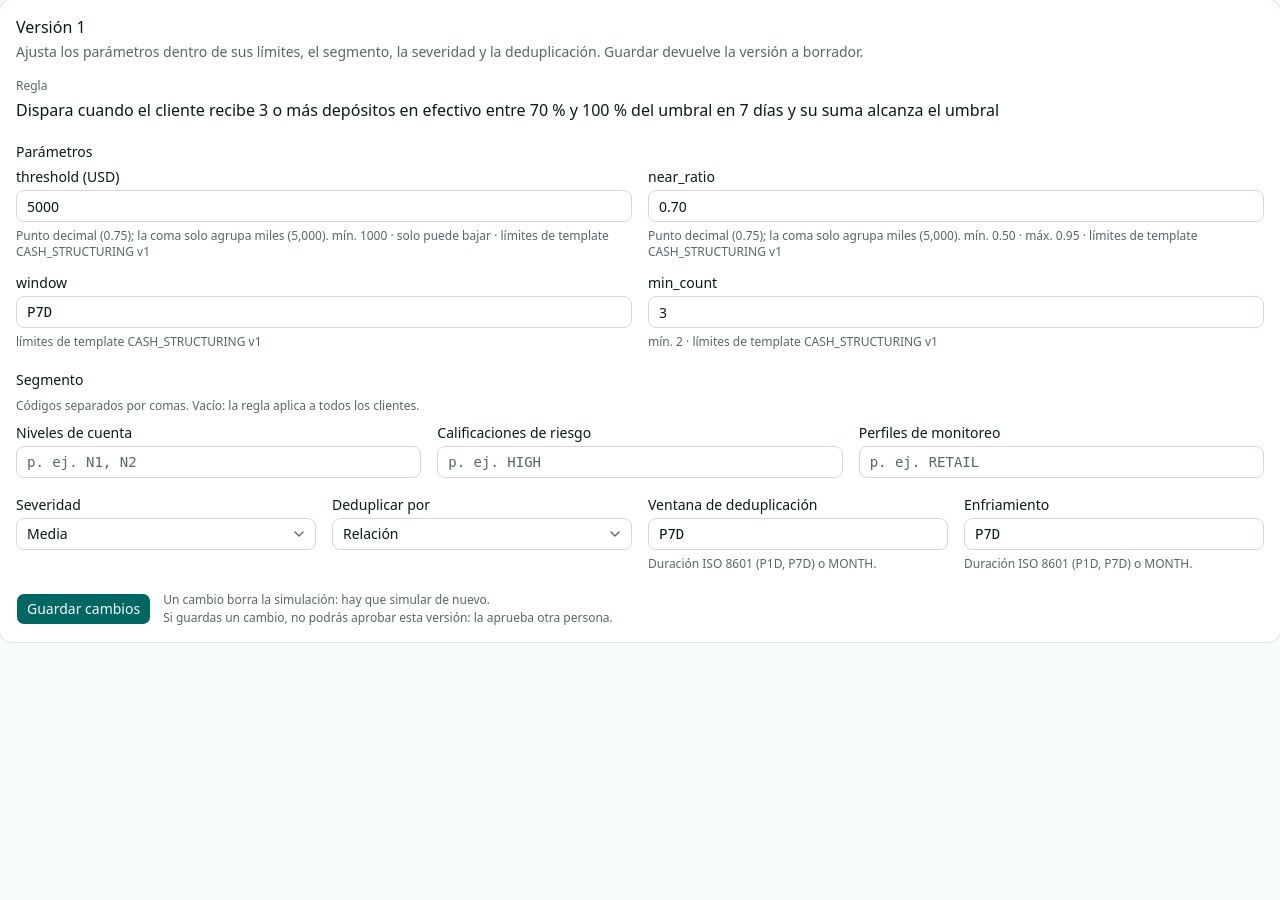
VersionEditor › refuses a decimal comma before anything is sent
Replace the text in the field labelled "near_ratio" with "0,80" at (956, 206), box [648,190,1264,222]
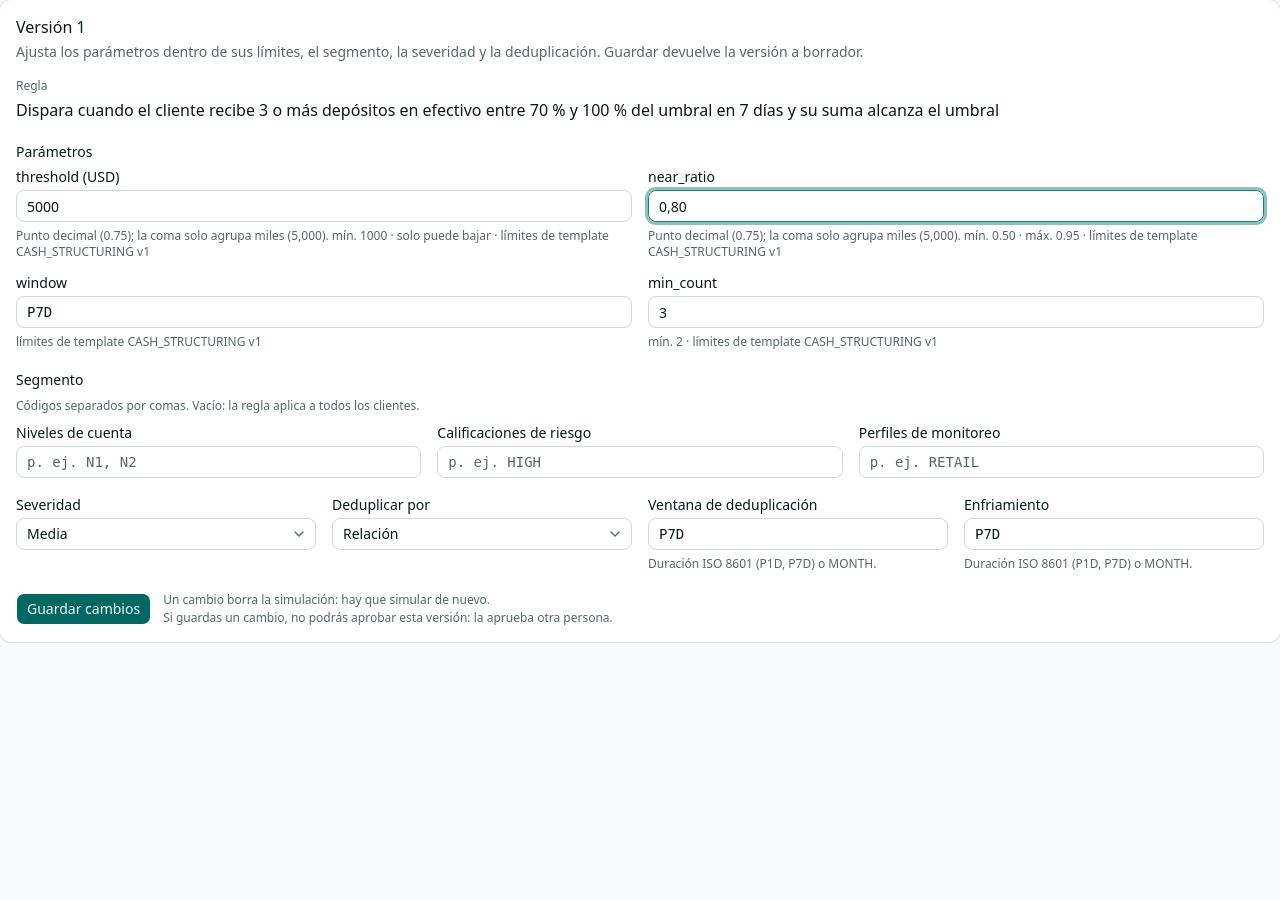
Click the button "Guardar cambios".
click(84, 609)  # box [16,593,151,625]
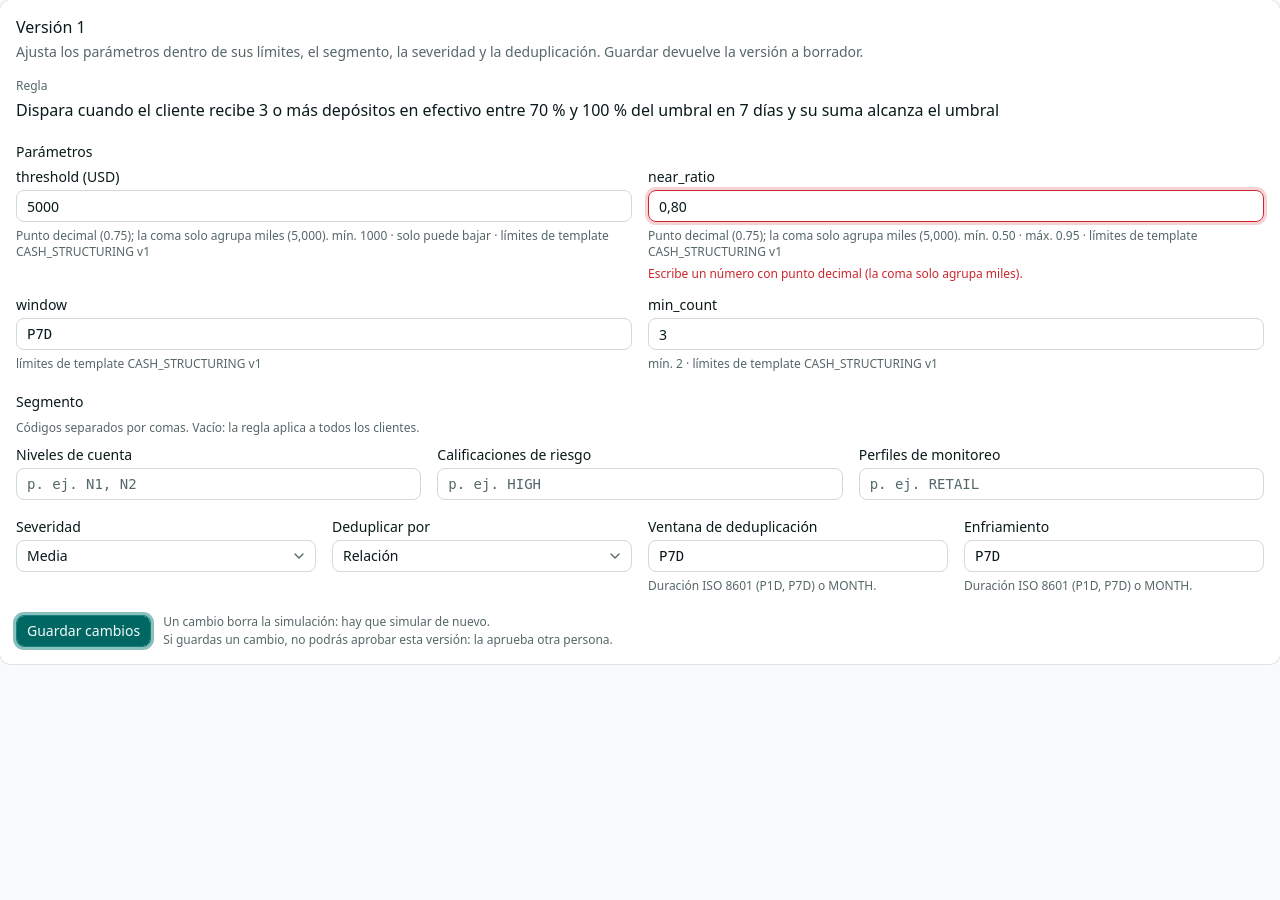
Result: the text "Escribe un número con punto decimal (la coma solo agrupa miles)." is shown at [648,265,1023,282]
